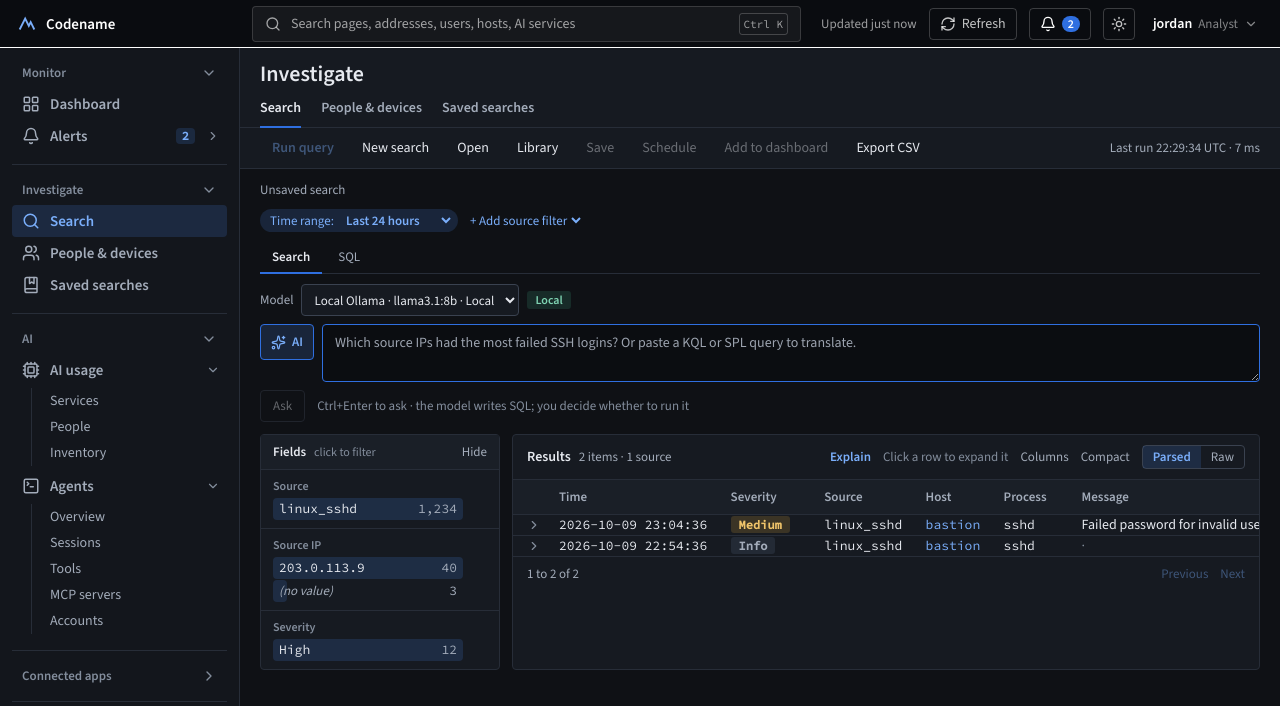
Test: Ask › saves with the question as origin
Step 1. Type "failed logins" into the text box named "Question" → (791, 353), box top-left (322, 324), bottom-right (1260, 382)
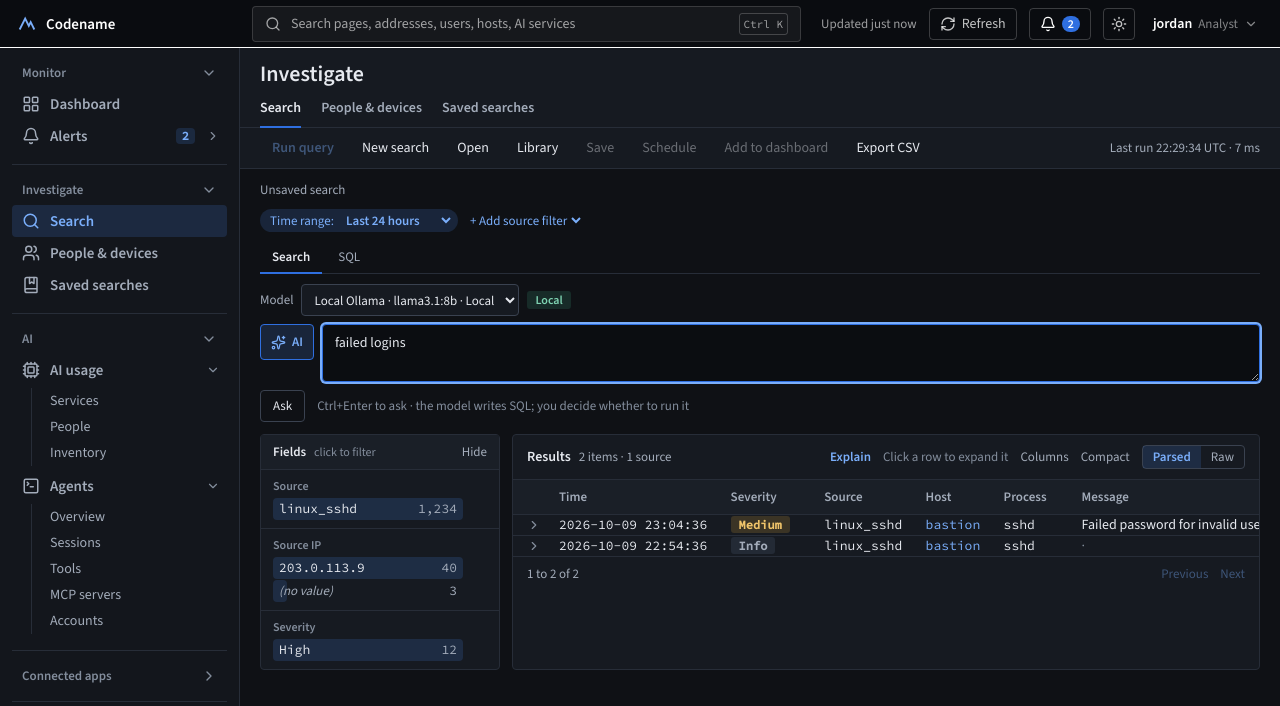
Step 2. Click the button "Ask" → (283, 406), box top-left (260, 390), bottom-right (305, 422)
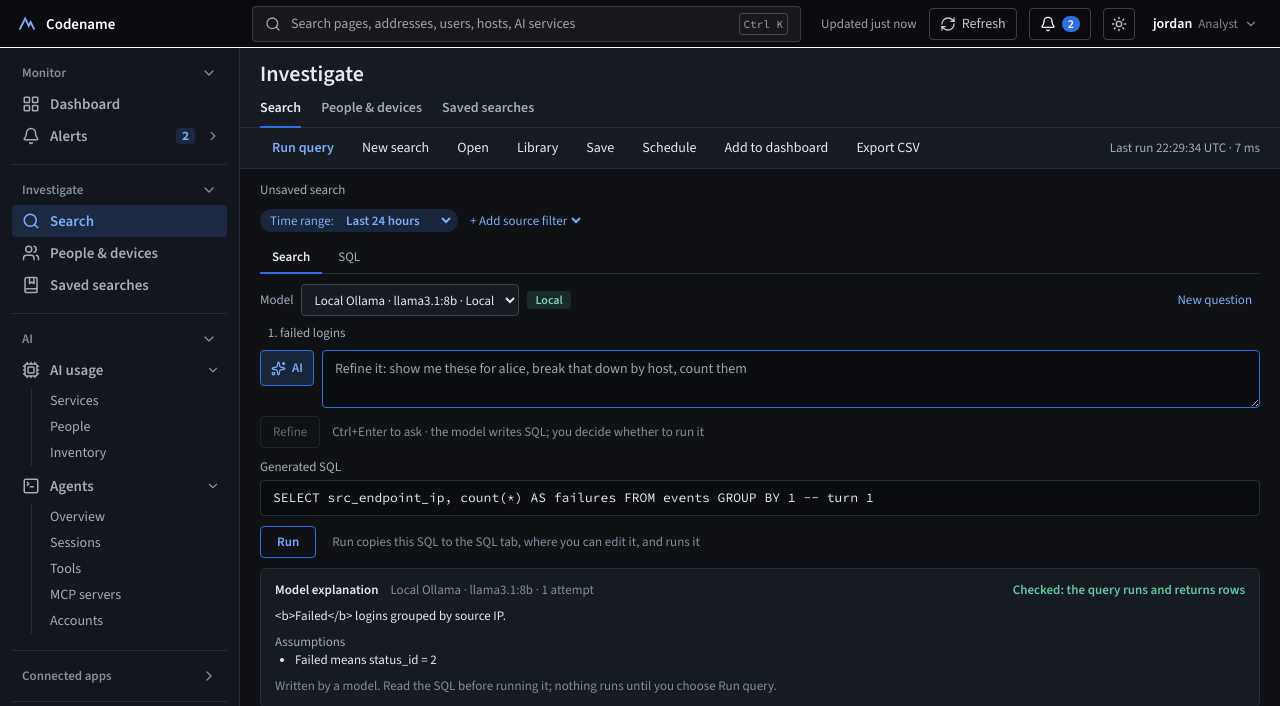
Result: the text "turn 1" is shown at top-left (273, 489), bottom-right (874, 506)
Step 3. Click the button "Save" → (600, 148), box top-left (574, 132), bottom-right (626, 164)
(page scrolled)
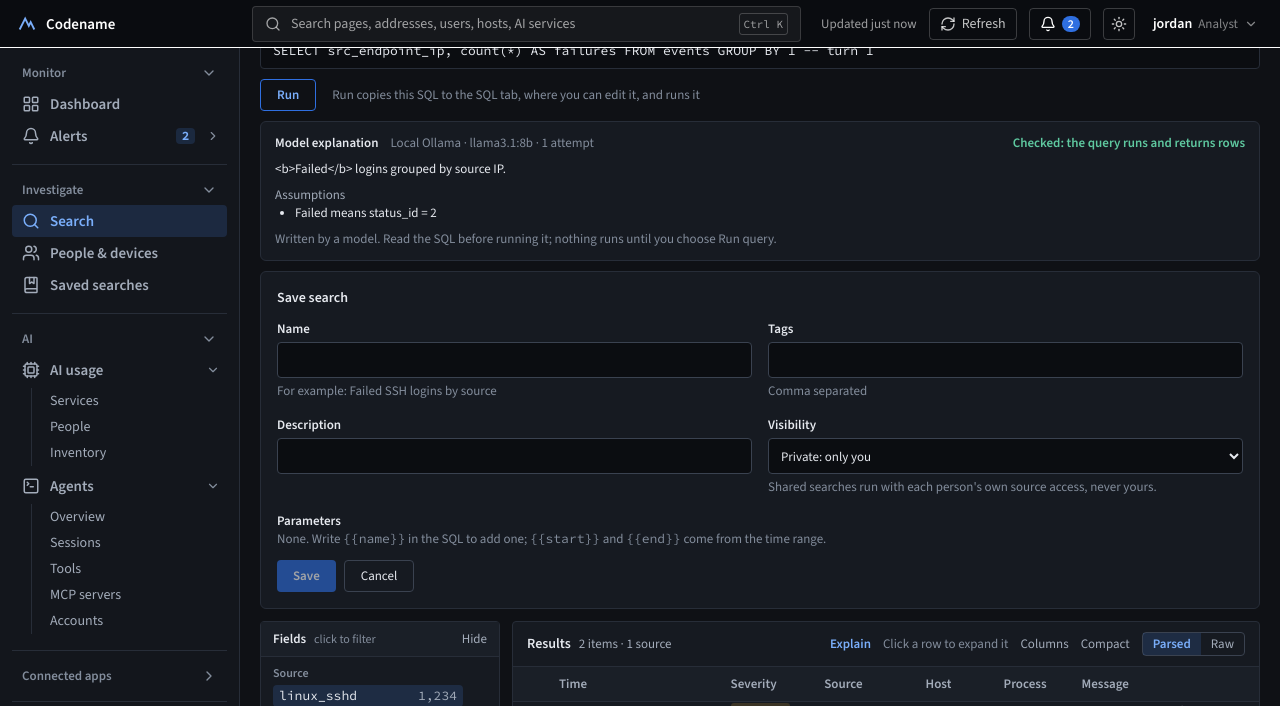
Step 4. Type "Failed by IP" into the field labelled "Name" → (514, 360), box top-left (277, 342), bottom-right (752, 378)
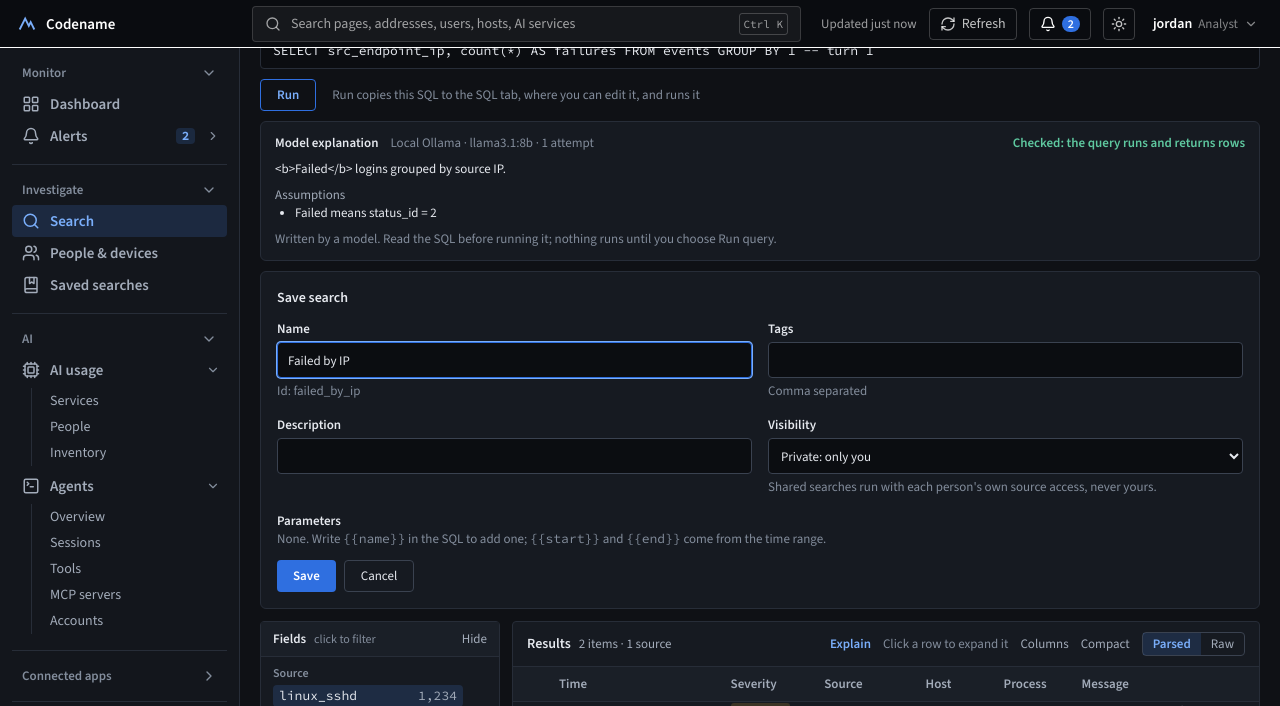
Step 5. Click the button "Save" → (306, 576), box top-left (277, 560), bottom-right (336, 592)
(page scrolled)
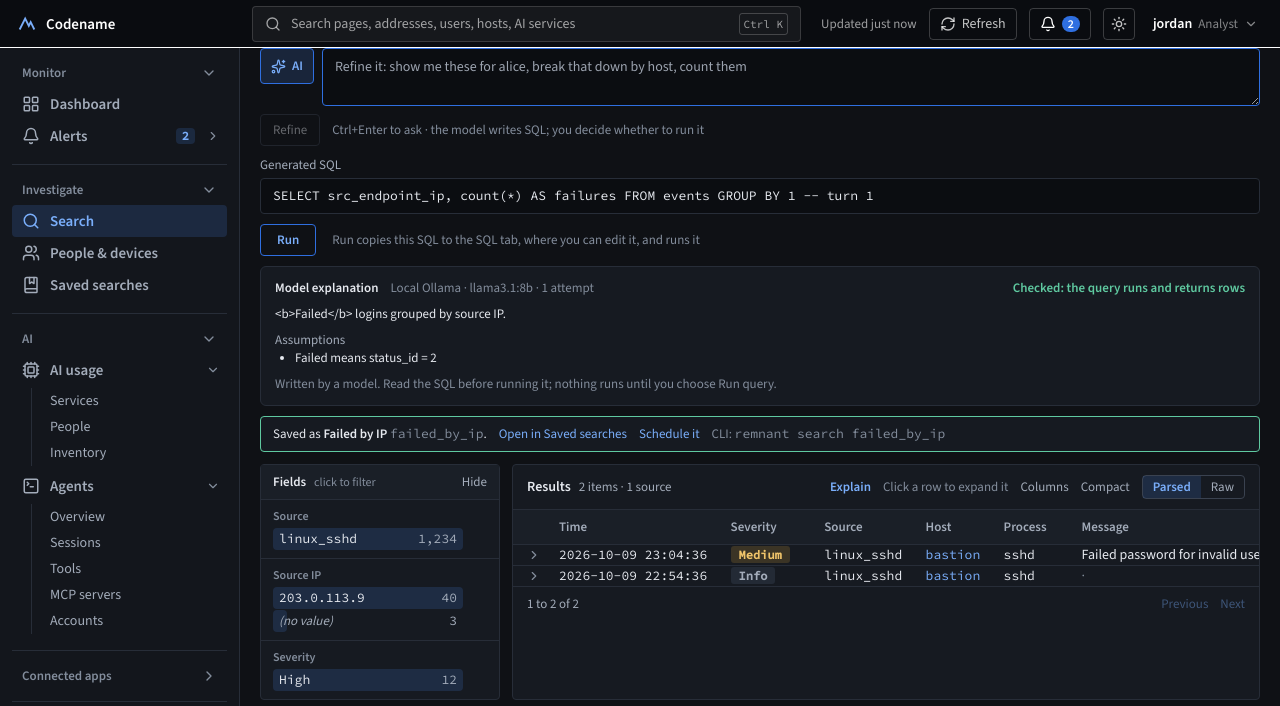
Result: the message is shown at top-left (260, 416), bottom-right (1260, 452)
